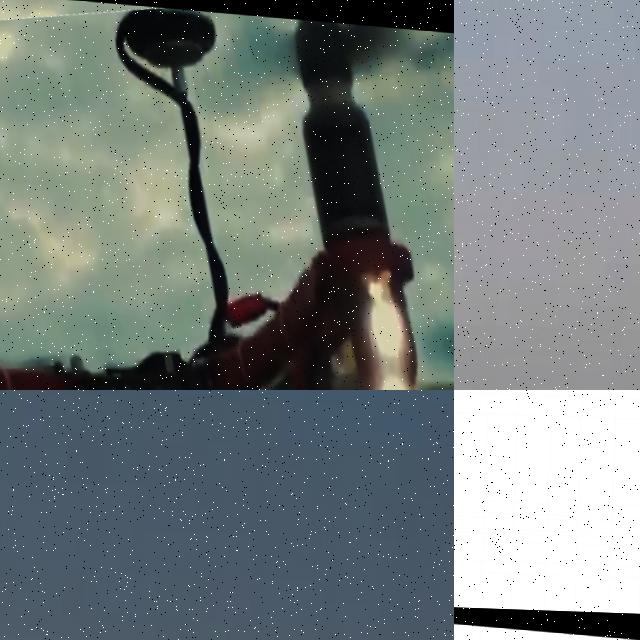drone: (0, 0, 454, 390)
